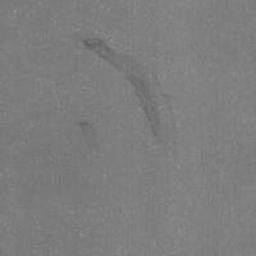Water spot: (73, 36, 178, 161), (77, 120, 101, 155)
